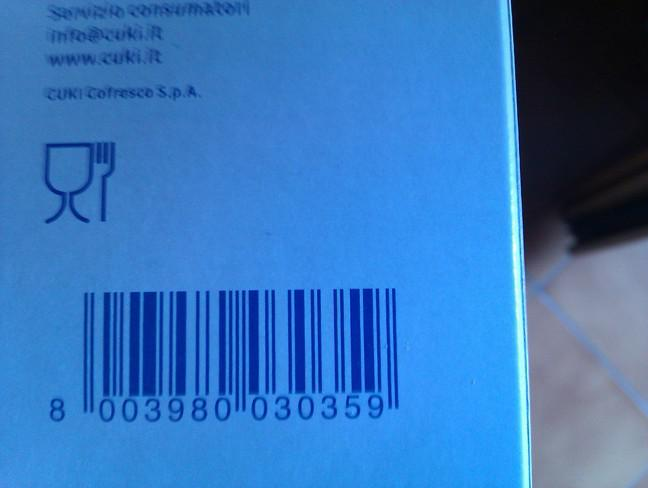Barkod: (24, 269, 408, 426)
